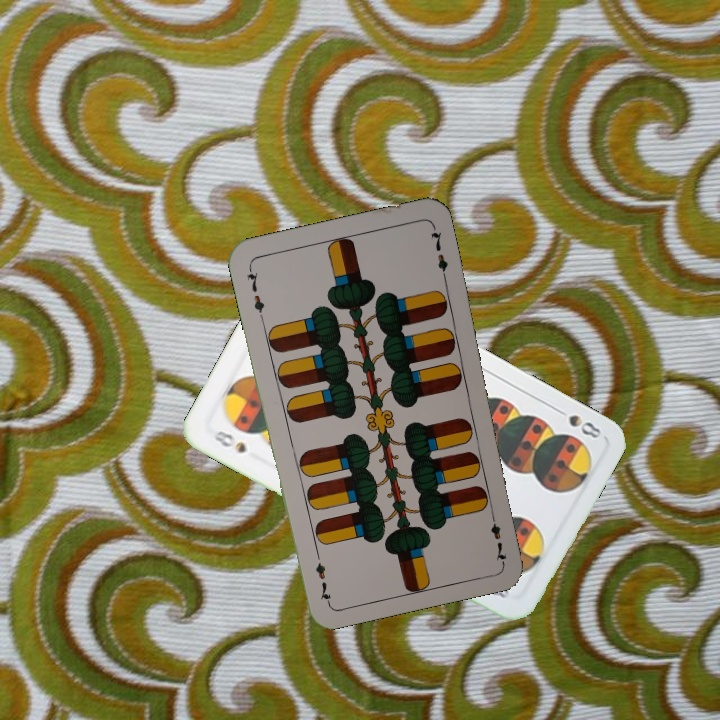E7: (242, 263, 267, 321), (486, 506, 510, 564)
S8: (550, 403, 604, 441), (209, 426, 249, 456)
